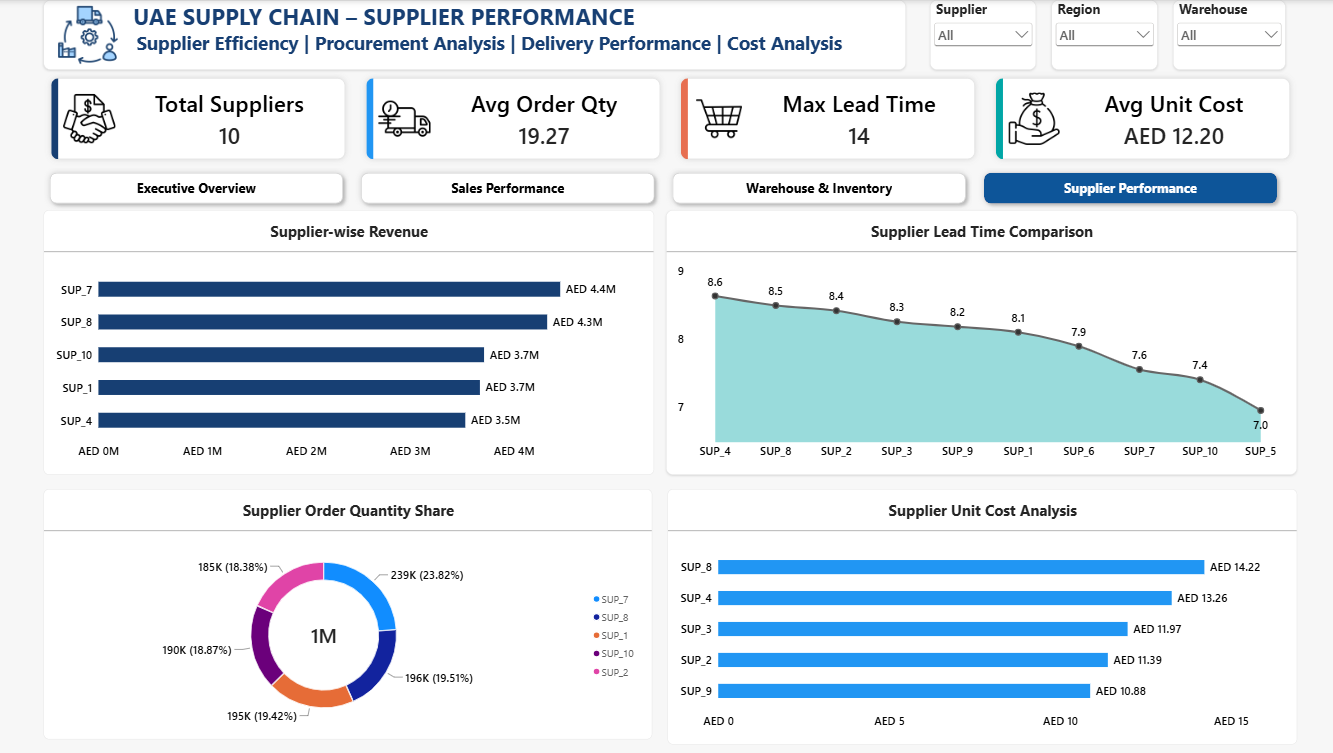

Layout of this report page (visuals, bound fields, positions):
{"tool":"powerbi","page":{"name":"Supplier Performance","canvas":[1920,1080],"ordinal":3},"visuals":[{"type":"textbox","box":[65.9,0,1235.6,99.9],"z":0},{"type":"cardVisual","fields":{"Data":["#Measures.Total Suppliers","#Measures.Average Order Quantity","#Measures.Maximum Supplier Lead Time","#Measures.Average Supplier Unit Cost"]},"box":[65.9,99.9,1796.6,138.5],"z":1000},{"type":"pageNavigator","box":[66.8,238.6,1779.9,62],"z":2000},{"type":"slicer","fields":{"Values":["public supply_chain.supplier_id"]},"box":[1335.5,0,152.2,99.9],"z":3000},{"type":"slicer","fields":{"Values":["public supply_chain.Region"]},"box":[1510.4,0,152.2,99.9],"z":4000},{"type":"clusteredBarChart","title":"Supplier-wise Revenue","fields":{"Category":["public supply_chain.supplier_id"],"Y":["#Measures.Total Revenue"]},"box":[65.9,299.8,874.5,379.3],"z":5000},{"type":"lineChart","title":"Supplier Lead Time Comparison","fields":{"Category":["public supply_chain.supplier_id"],"Y":["#Measures.Average Supplier Lead Time"]},"box":[958.5,299.8,904,379.3],"z":6000},{"type":"donutChart","title":"Supplier Order Quantity Share","fields":{"Category":["public supply_chain.supplier_id"],"Y":["#Measures.Total Order Quantity"]},"box":[65.9,699.6,872.2,358.9],"z":7000},{"type":"clusteredBarChart","title":"Supplier Unit Cost Analysis","fields":{"Category":["public supply_chain.supplier_id"],"Y":["#Measures.Avg Unit Cost"]},"box":[960.8,699.6,901.7,365.7],"z":8000},{"type":"slicer","fields":{"Values":["public supply_chain.Warehouse ID"]},"box":[1685.3,0,161.3,99.9],"z":9000},{"type":"image","box":[86.3,0,88.6,99.9],"z":9001}]}

Visuals, with their boxes in screenshot pixels (x1, y1, x2, y2), scaled from the page's 1920x1080 canvas onto the 1333x753 screenshot:
textbox: (x1=46, y1=0, x2=904, y2=70)
cardVisual - #Measures.Total Suppliers x #Measures.Average Order Quantity: (x1=46, y1=70, x2=1293, y2=166)
pageNavigator: (x1=46, y1=166, x2=1282, y2=210)
slicer - public supply_chain.supplier_id: (x1=927, y1=0, x2=1033, y2=70)
slicer - public supply_chain.Region: (x1=1049, y1=0, x2=1154, y2=70)
"Supplier-wise Revenue" clusteredBarChart: (x1=46, y1=209, x2=653, y2=473)
"Supplier Lead Time Comparison" lineChart: (x1=665, y1=209, x2=1293, y2=473)
"Supplier Order Quantity Share" donutChart: (x1=46, y1=488, x2=651, y2=738)
"Supplier Unit Cost Analysis" clusteredBarChart: (x1=667, y1=488, x2=1293, y2=743)
slicer - public supply_chain.Warehouse ID: (x1=1170, y1=0, x2=1282, y2=70)
image: (x1=60, y1=0, x2=121, y2=70)
